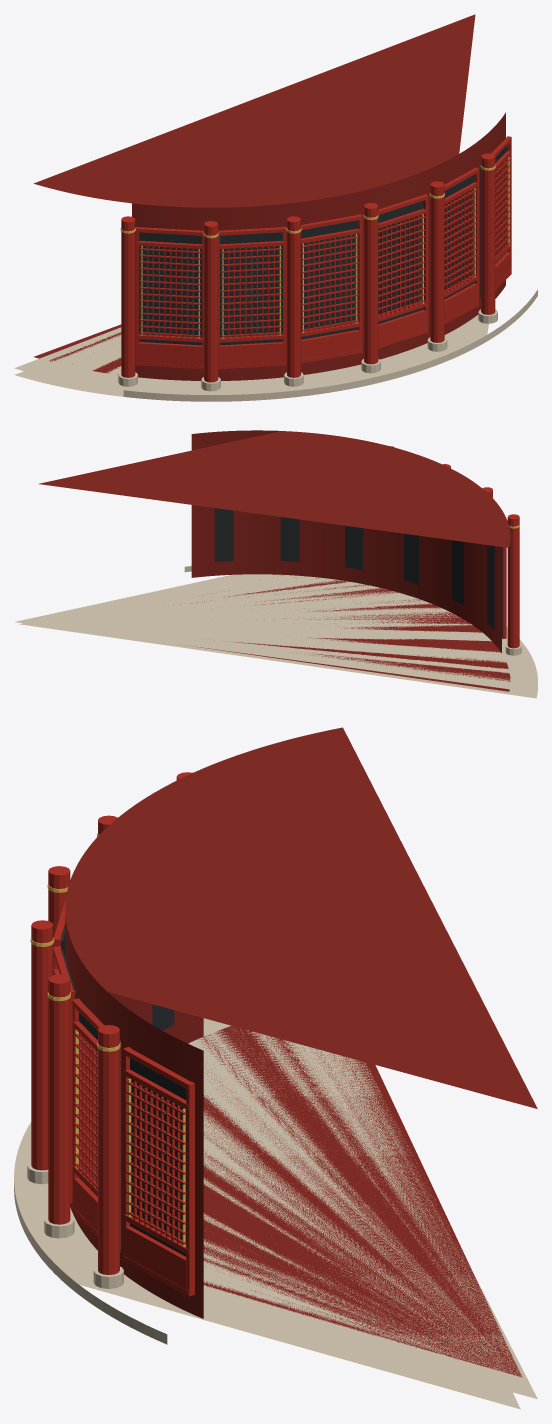
Rendered from SM_24_Wall_4.fbx.
3 views of the same model, one above another, from view 1: azimuth 30°, elevation 25°; view 2: azimuth 150°, elevation 25°; view 3: azimuth 270°, elevation 25° (orthographic). The views are drawn at different scales.
Parts seen in each view (by area): view 1: Wall_4; view 2: Wall_4; view 3: Wall_4.
Boxes of the visible parts, x1=… form: Wall_4: x1=14, y1=14, x2=537, y2=401; Wall_4: x1=15, y1=430, x2=537, y2=698; Wall_4: x1=14, y1=727, x2=537, y2=1409.
Size of the model in its own units: 2637 by 1380 by 810.
